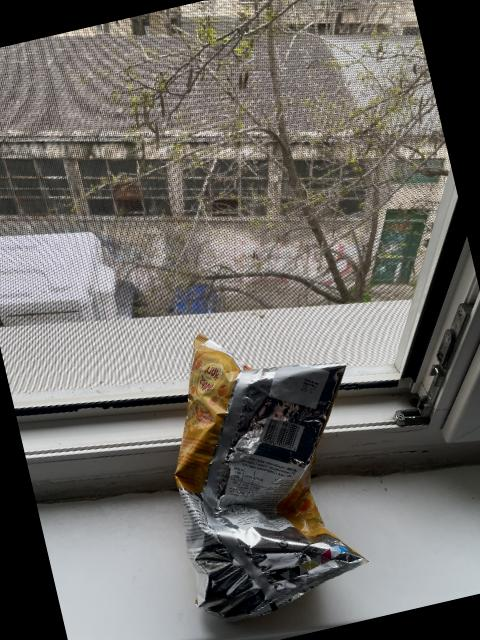Chio Hula Hoops Cheese 70g: (138, 307, 394, 628)
